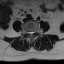CCS_normal: (30, 29, 32, 37)
LFS_normal: (33, 30, 35, 34)
LLS_normal: (32, 30, 33, 35)
RFS_normal: (27, 30, 29, 35)
RLS_normal: (29, 30, 30, 35)
